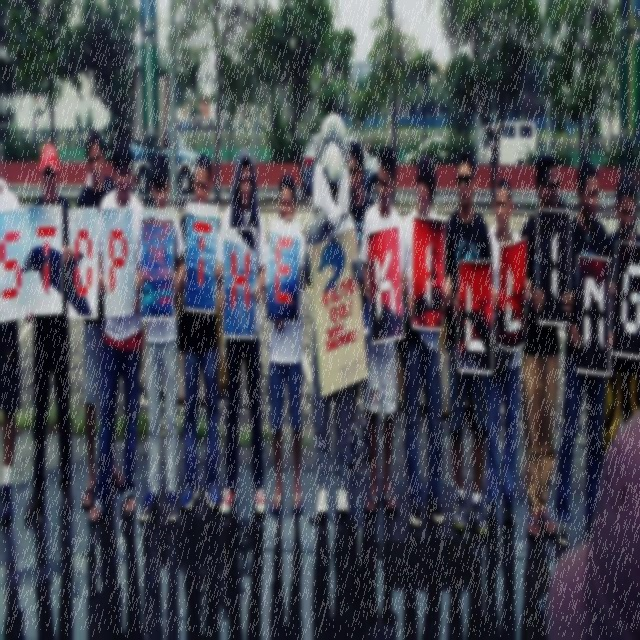pessoa: (2, 527, 568, 635), (302, 111, 366, 521), (552, 154, 614, 556), (536, 398, 639, 639), (394, 152, 454, 532), (518, 149, 575, 546), (88, 137, 145, 525), (210, 143, 268, 522), (132, 148, 187, 530), (444, 148, 496, 538), (22, 138, 73, 530), (356, 141, 409, 514), (76, 127, 126, 510), (175, 151, 227, 513), (481, 174, 532, 531), (258, 167, 308, 517), (601, 170, 640, 467), (0, 123, 26, 536), (346, 138, 374, 468)
